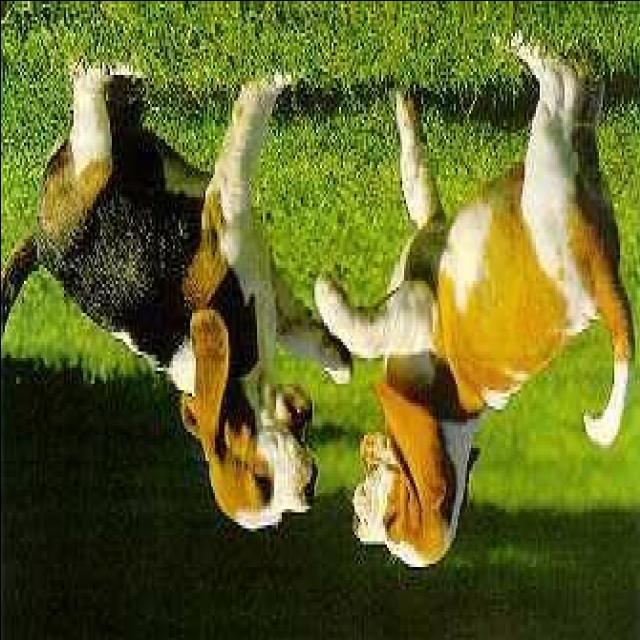beagle: (316, 36, 632, 570), (0, 58, 311, 534)
